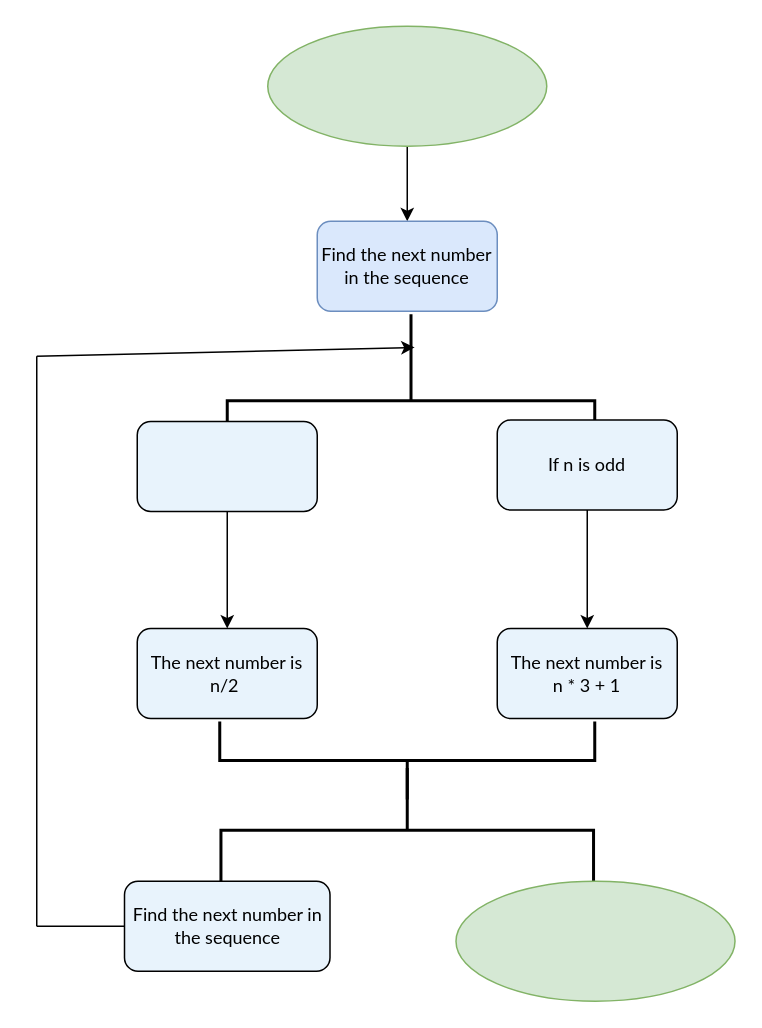
Some shapes in this 762 by 1028 pixel diagram are drawn without their labels. The shapes that lost their labels are listed below. From the top down, each one's box as (x1, y1, x2, y2) in pixels, then its label:
(266, 25, 547, 146): N = any positive number
(136, 420, 317, 512): If n is even
(454, 880, 735, 1001): If the current number is 1, end the sequence
